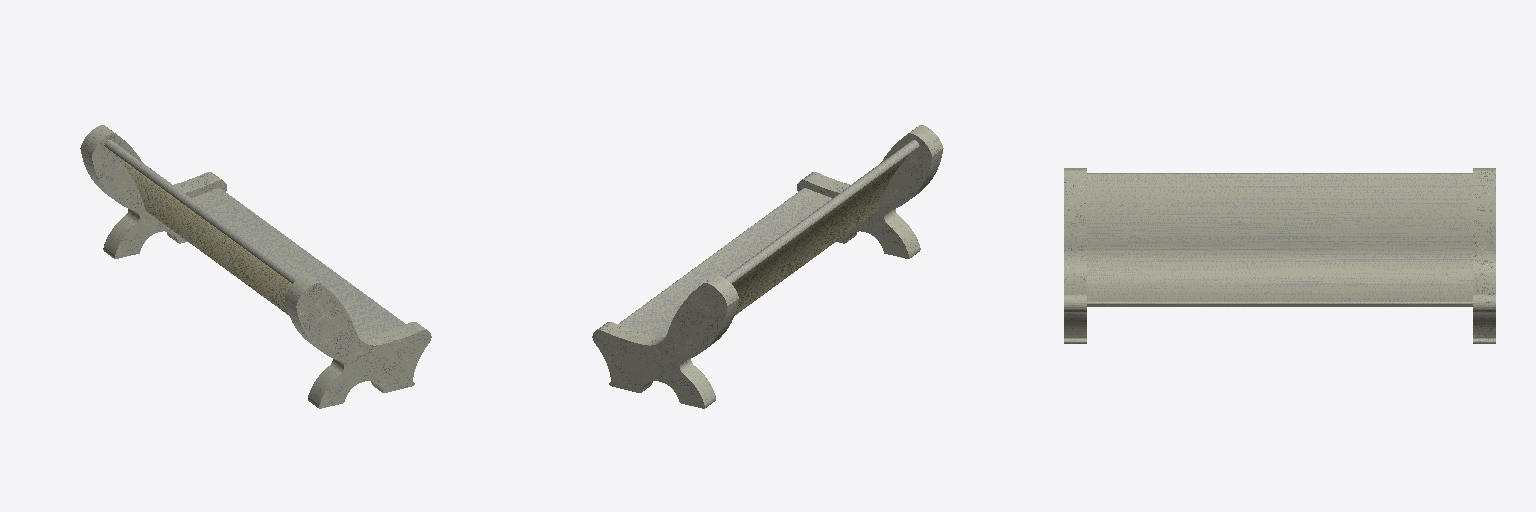
3 renders of one model, left to right at view 1: azimuth 30°, elevation 25°; view 2: azimuth 150°, elevation 25°; view 3: azimuth 270°, elevation 25°, orthographic.
Parts seen in each view (by area): view 1: mesh1_mesh1-geometry; view 2: mesh1_mesh1-geometry; view 3: mesh1_mesh1-geometry.
Part boxes in pixels (bbox=[...]): mesh1_mesh1-geometry: bbox=[80, 125, 431, 408]; mesh1_mesh1-geometry: bbox=[592, 125, 943, 408]; mesh1_mesh1-geometry: bbox=[1064, 168, 1495, 343].
Size of the model in its own units: 0.3255 by 0.2913 by 0.8996.
15 materials, 13 textured.